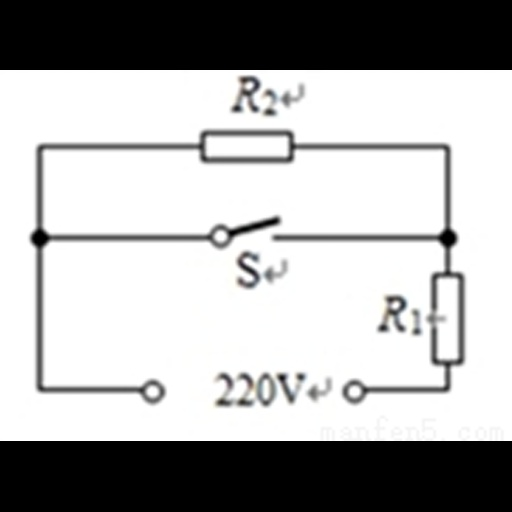firstresistance: (423, 266, 476, 371), (192, 124, 303, 166)
